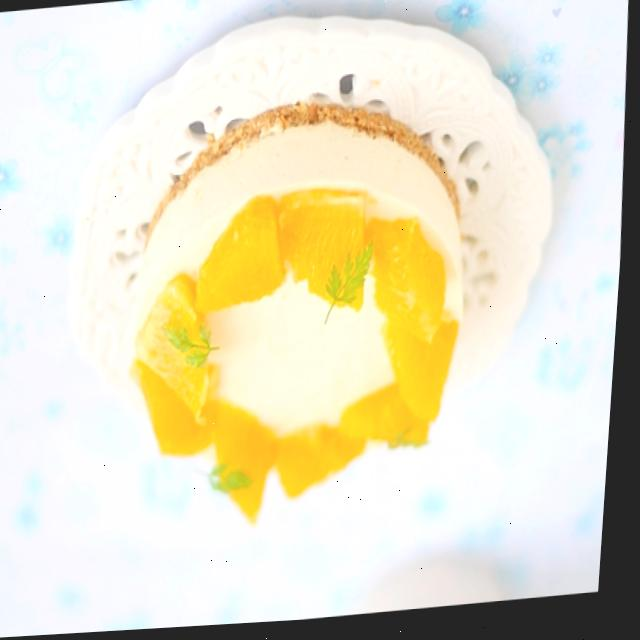蛋糕甜品: (53, 14, 578, 536)
